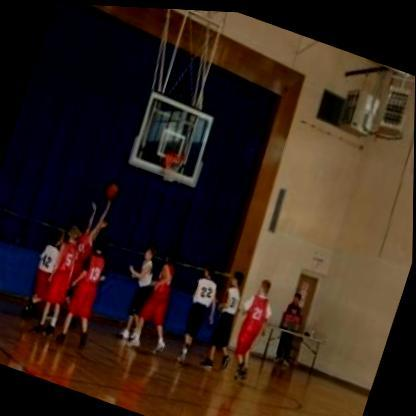basketball: (103, 177, 122, 202)
